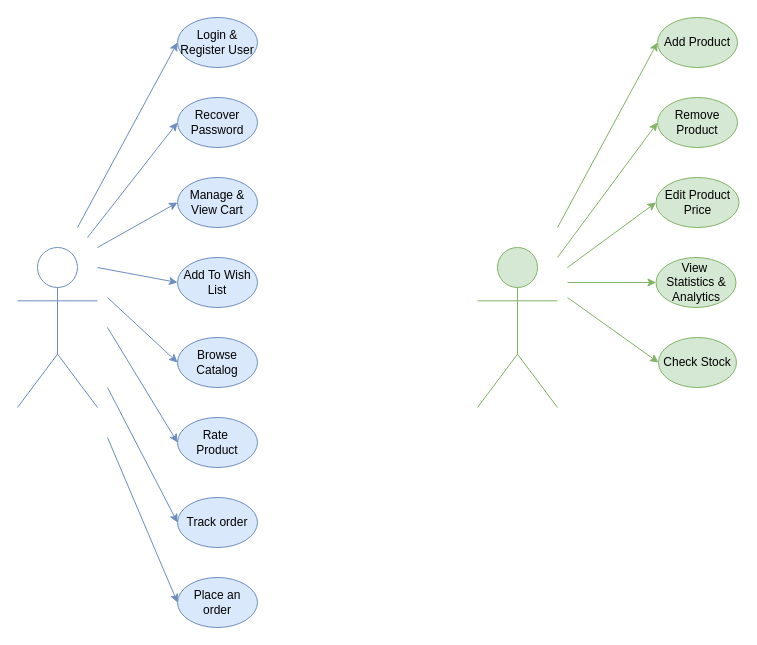
This 757x645 diagram has some shape labels left out. Here are the shapes that lost their labels. From the top down, the centre of each, then its label:
At [57,327]: "Customer".
At [517,327]: "Workers (Administrator)".
